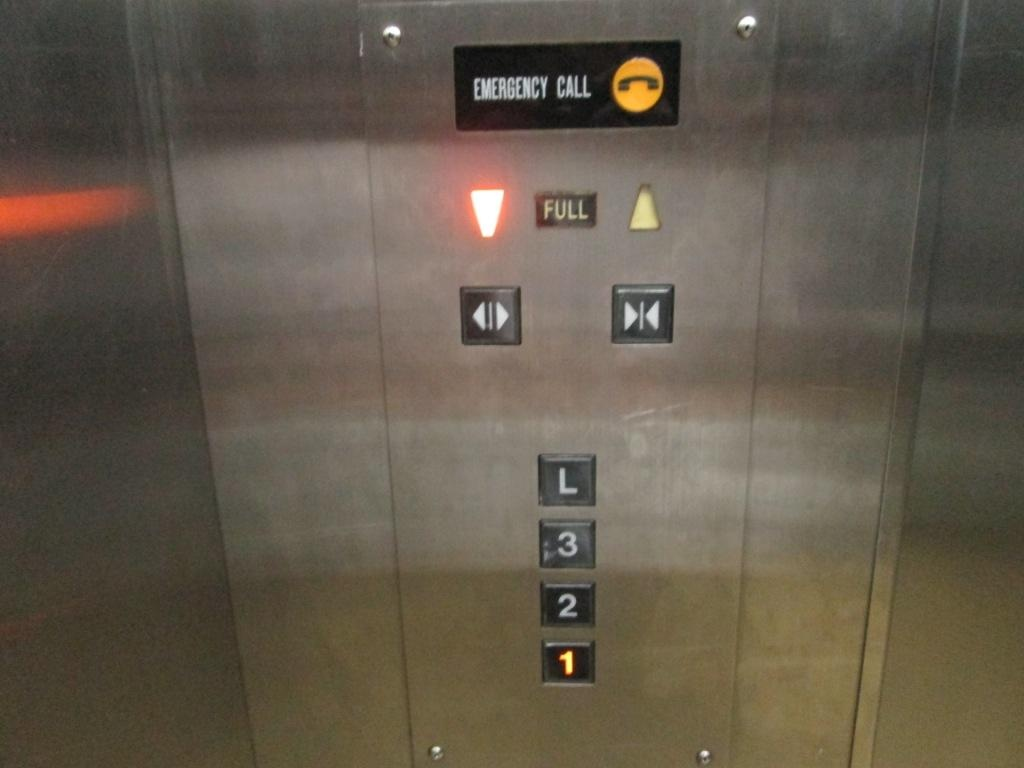1: (539, 636, 598, 686)
2: (538, 579, 600, 632)
3: (535, 516, 599, 571)
L: (535, 450, 599, 510)
call: (611, 54, 670, 116)
close: (607, 283, 676, 346)
open: (456, 282, 526, 349)
